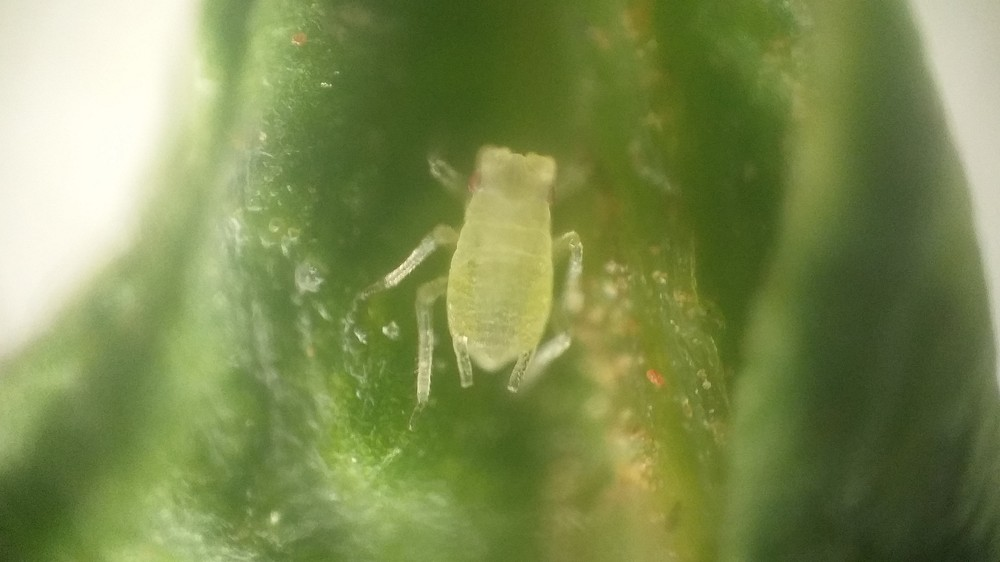Pulgon: (356, 134, 633, 426)
